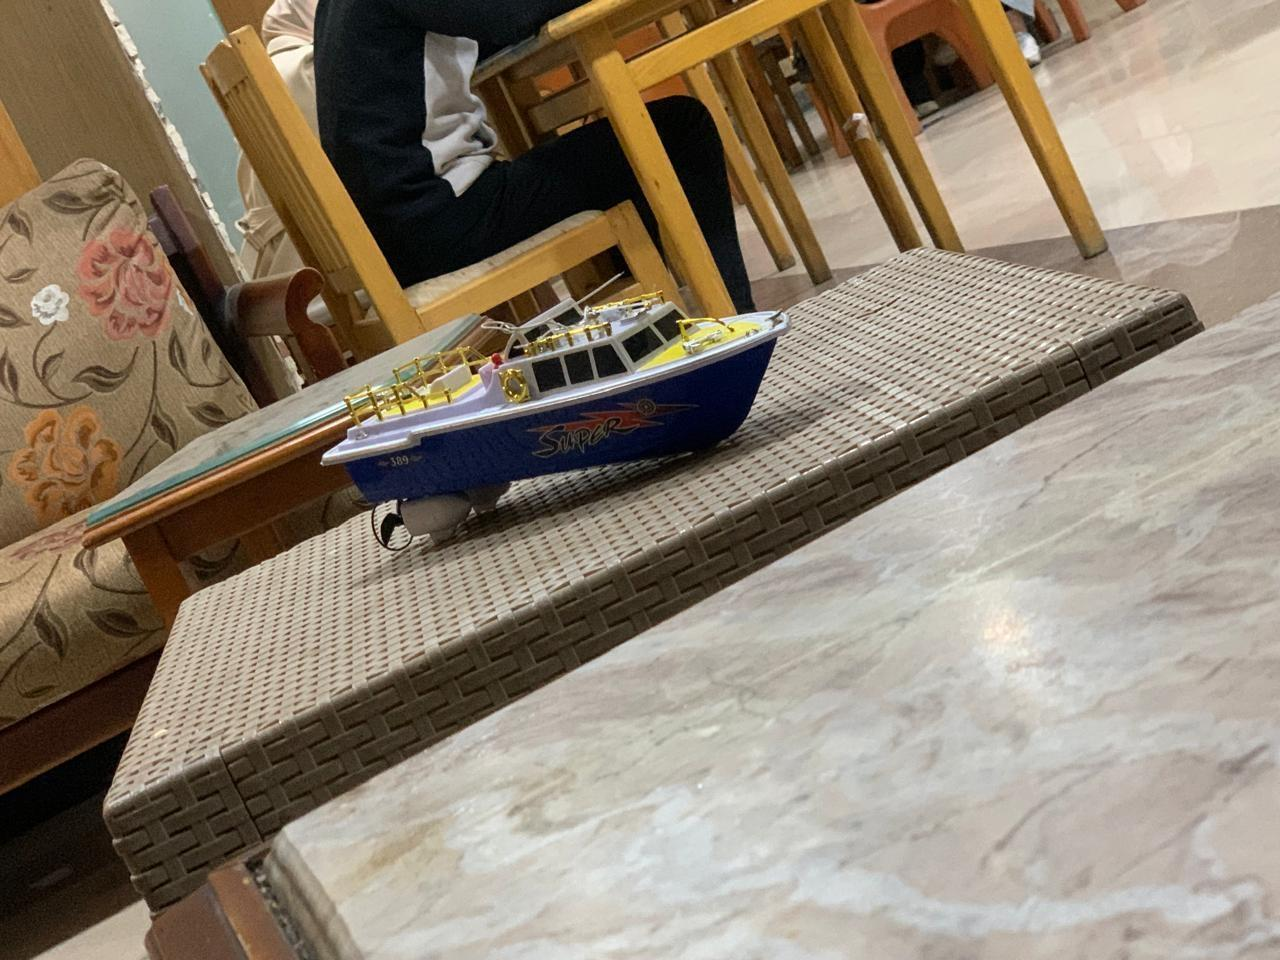Boat: (307, 286, 818, 560)
